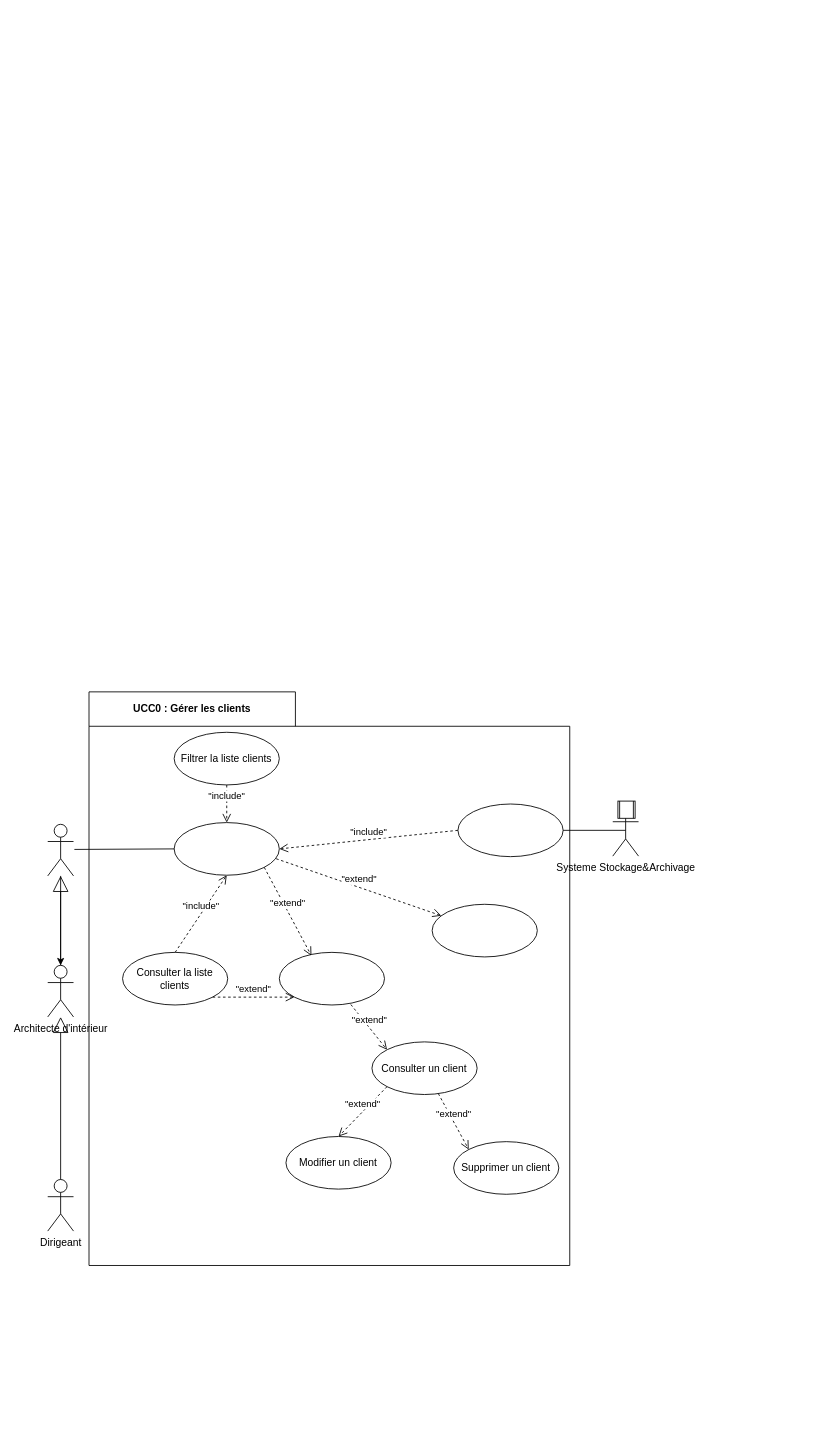
Some shapes in this 818 by 1450 pixel diagram are drawn without their labels. Each missing label, with the centre of its shape:
Ajouter un client: the point at 484,930
Assistant utilisateur: the point at 60,849
Gérer les clients: the point at 226,848
Recherche un client: the point at 331,978
Stocker les données et les docs: the point at 510,830
